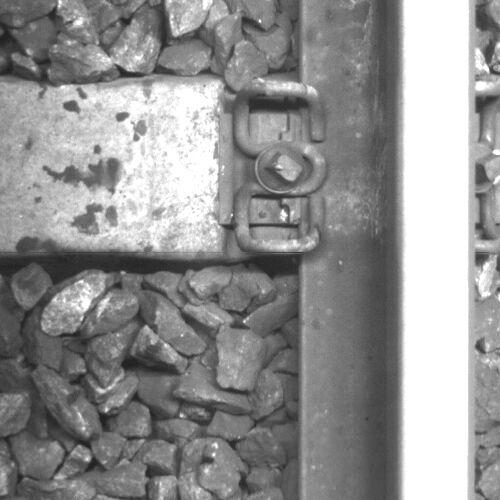rail: (398, 1, 474, 500)
tie_concr: (1, 85, 302, 253)
vossloh: (219, 79, 330, 254)
